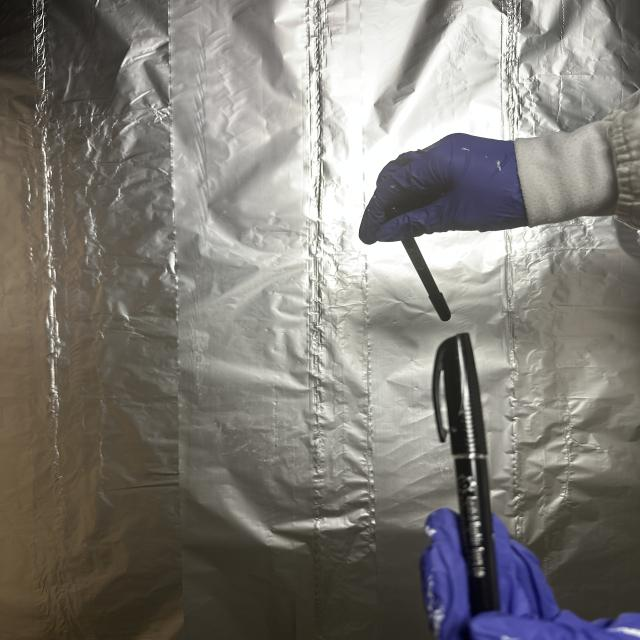gloves_contaminated: (421, 508, 640, 640), (359, 134, 530, 244)
